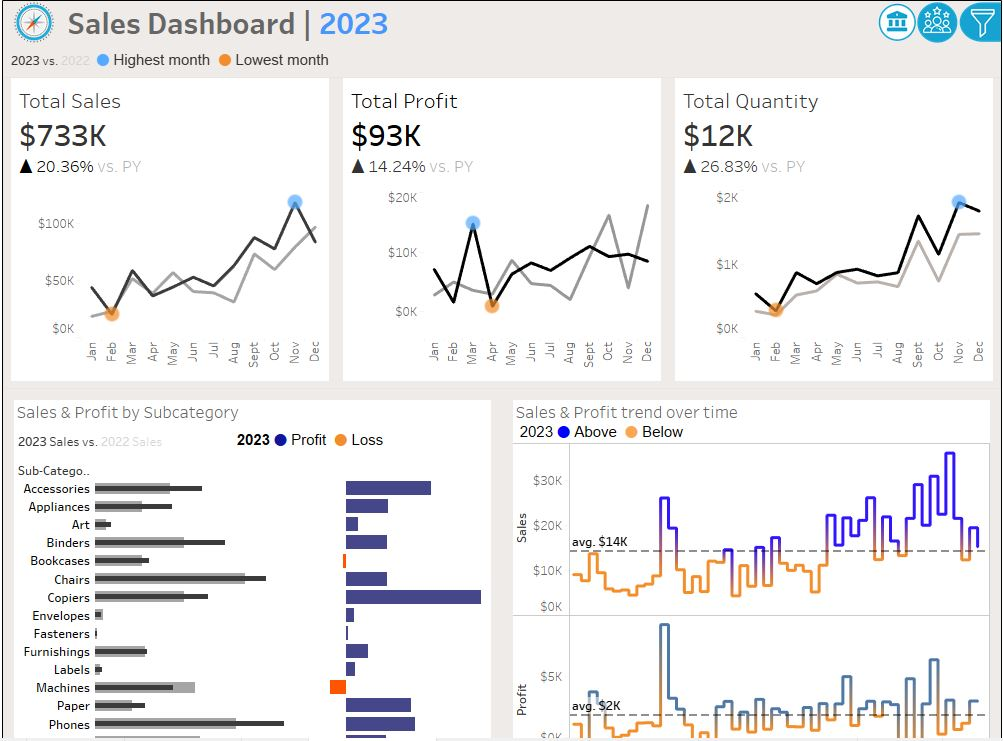

What the dashboard file says about the page in this screenshot:
{"tool":"tableau","page":{"name":"Sales Dashboard","canvas":[1000,800],"ordinal":1},"visuals":[{"type":"image","param":"Image/Icon - Logo.png","box":[1,1,62,42]},{"type":"text","box":[63,1,813,42]},{"type":"dashboard-object","box":[876,1,38,42]},{"type":"dashboard-object","box":[914,1,42,42]},{"type":"dashboard-object","box":[956,1,43,42]},{"type":"worksheet","title":"KPI Label","mark":"Automatic","box":[1,43,998,34]},{"type":"text","box":[774,46,222,48]},{"type":"worksheet","title":"KPI Sales","mark":"Automatic","rows":["Calculation_1134344156433936388"],"cols":["Order Date"],"box":[2,78,332,310]},{"type":"worksheet","title":"KPI Profit","mark":"Automatic","rows":["Calculation_1134344156448124941"],"cols":["Order Date"],"box":[334,78,332,310]},{"type":"worksheet","title":"KPI Quantity","mark":"Automatic","rows":["Calculation_1134344156455075860"],"cols":["Order Date"],"box":[666,78,332,310]},{"type":"blank","box":[774,94,222,32]},{"type":"parameter","param":"[Parameters].[Parameter 1]","box":[774,126,222,52]},{"type":"blank","box":[774,178,222,52]},{"type":"text","box":[774,230,222,26]},{"type":"filter","title":"KPI Sales","param":"[federated.05j0pau0aaki9m1b4k3uj1bu03oq].[none:Category:nk]","box":[774,256,222,52]},{"type":"filter","title":"KPI Sales","param":"[federated.05j0pau0aaki9m1b4k3uj1bu03oq].[none:Sub-Category:nk]","box":[774,308,222,52]},{"type":"text","box":[774,360,222,26]},{"type":"filter","title":"KPI Sales","param":"[federated.05j0pau0aaki9m1b4k3uj1bu03oq].[none:Region:nk]","box":[774,386,222,52]},{"type":"text","box":[12,400,477,24]},{"type":"text","box":[511,400,477,23]},{"type":"text","box":[511,423,477,20]},{"type":"worksheet","title":"SubcategoryLabel","mark":"Automatic","box":[12,424,220,34]},{"type":"text","box":[232,424,257,34]},{"type":"filter","title":"KPI Sales","param":"[federated.05j0pau0aaki9m1b4k3uj1bu03oq].[none:State:nk]","box":[774,438,222,52]},{"type":"worksheet","title":"Weekly Trends","mark":"Automatic","rows":["Calculation_1134344156406542336","Calculation_1134344156444450824"],"cols":["Order Date"],"box":[511,443,477,345]},{"type":"worksheet","title":"SalesByCategory","mark":"Bar","rows":["Sub-Category"],"cols":["Calculation_1134344156407537665","Calculation_1134344156406542336","Calculation_1134344156444450824"],"box":[12,458,477,330]},{"type":"filter","title":"KPI Sales","param":"[federated.05j0pau0aaki9m1b4k3uj1bu03oq].[none:City:nk]","box":[774,490,222,52]}]}

Visuals, with their boxes on the page's 1000x800 design canvas (x1, y1, x2, y2). These are canvas units, not pixel positions in the 1003x741 screenshot, which may show the page scaled, cropped or inside an application window:
image: [1, 1, 63, 43]
text: [63, 1, 876, 43]
dashboard-object: [876, 1, 914, 43]
dashboard-object: [914, 1, 956, 43]
dashboard-object: [956, 1, 999, 43]
"KPI Label" worksheet: [1, 43, 999, 77]
text: [774, 46, 996, 94]
"KPI Sales" worksheet: [2, 78, 334, 388]
"KPI Profit" worksheet: [334, 78, 666, 388]
"KPI Quantity" worksheet: [666, 78, 998, 388]
blank: [774, 94, 996, 126]
parameter: [774, 126, 996, 178]
blank: [774, 178, 996, 230]
text: [774, 230, 996, 256]
"KPI Sales" filter: [774, 256, 996, 308]
"KPI Sales" filter: [774, 308, 996, 360]
text: [774, 360, 996, 386]
"KPI Sales" filter: [774, 386, 996, 438]
text: [12, 400, 489, 424]
text: [511, 400, 988, 423]
text: [511, 423, 988, 443]
"SubcategoryLabel" worksheet: [12, 424, 232, 458]
text: [232, 424, 489, 458]
"KPI Sales" filter: [774, 438, 996, 490]
"Weekly Trends" worksheet: [511, 443, 988, 788]
"SalesByCategory" worksheet (Bar marks): [12, 458, 489, 788]
"KPI Sales" filter: [774, 490, 996, 542]
